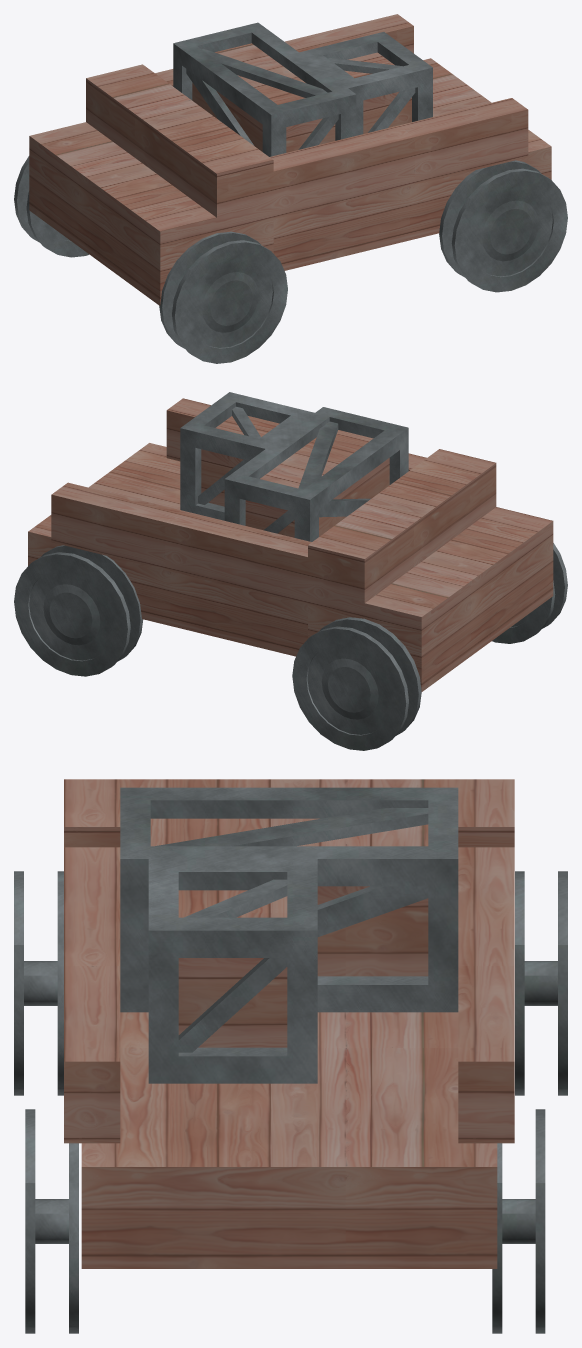
The model's file is cart2.fbx.
3 renders of one model, top to bottom at view 1: azimuth 30°, elevation 25°; view 2: azimuth 150°, elevation 25°; view 3: azimuth 270°, elevation 25°, orthographic. The views are drawn at different scales.
Visible parts, largest first — view 1: block (×3), wheel_default (×3), block_quarter (×2), detail_crateLong, detail_crate; view 2: block (×3), wheel_default (×3), block_quarter (×2), detail_crateLong, detail_crate; view 3: block (×2), detail_crateLong, detail_crate, block_quarter (×2), wheel_default (×4).
Boxes of the visible parts, bbox=[...] form: block (×3): bbox=[29, 58, 551, 305]; wheel_default (×3): bbox=[14, 156, 567, 363]; block_quarter (×2): bbox=[155, 14, 528, 218]; detail_crateLong: bbox=[173, 22, 356, 156]; detail_crate: bbox=[299, 32, 432, 135]; block (×3): bbox=[28, 443, 553, 691]; wheel_default (×3): bbox=[14, 543, 567, 750]; block_quarter (×2): bbox=[51, 398, 426, 604]; detail_crateLong: bbox=[224, 407, 408, 541]; detail_crate: bbox=[180, 392, 314, 520]; block (×2): bbox=[64, 779, 514, 1268]; detail_crateLong: bbox=[120, 787, 458, 1012]; detail_crate: bbox=[148, 859, 317, 1083]; block_quarter (×2): bbox=[64, 847, 514, 1143]; wheel_default (×4): bbox=[14, 871, 567, 1333].
Bounding box in the file's own units: 14 × 7 × 9.84.
2 materials, 2 textured.
